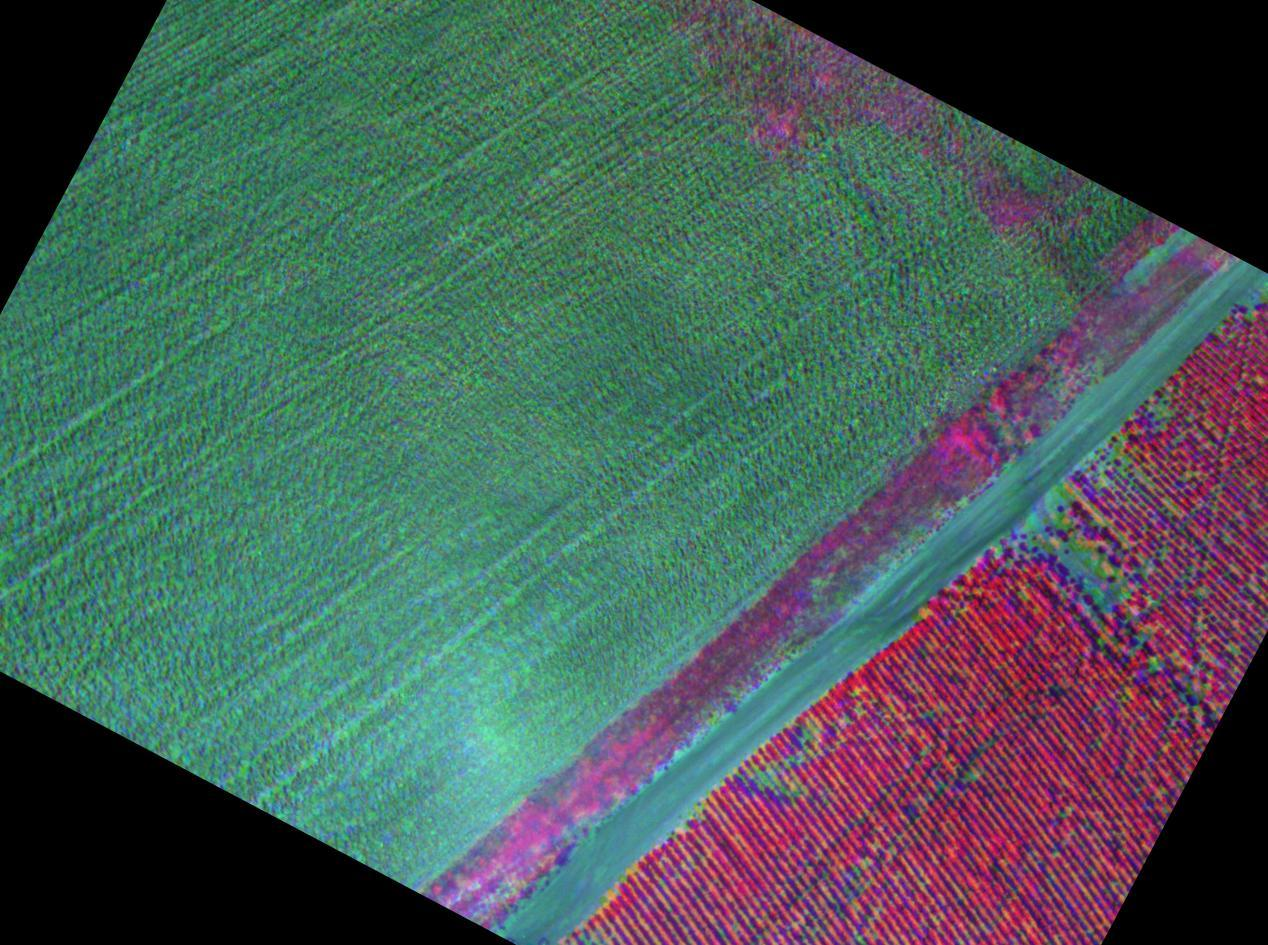dc: (1069, 552, 1077, 562), (1090, 570, 1096, 578), (762, 777, 767, 783)
